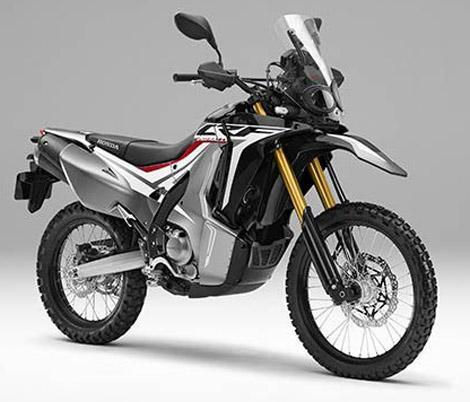motorbike: (14, 10, 438, 381)
